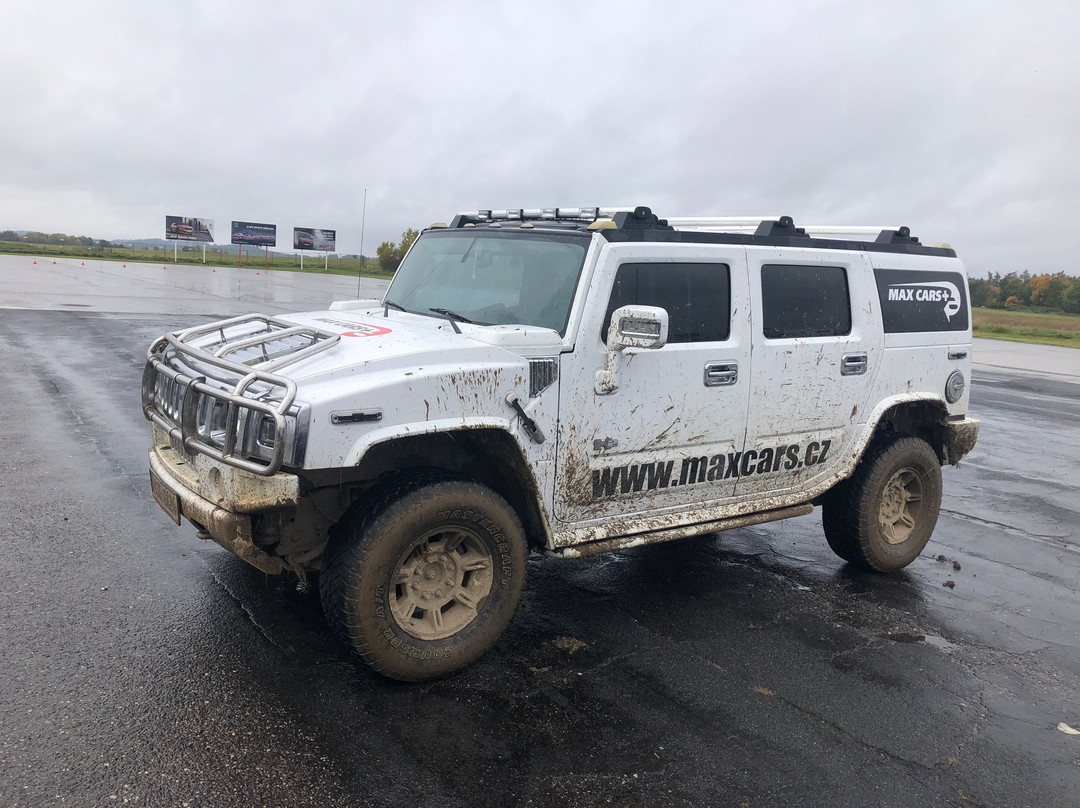other: (133, 205, 970, 673)
